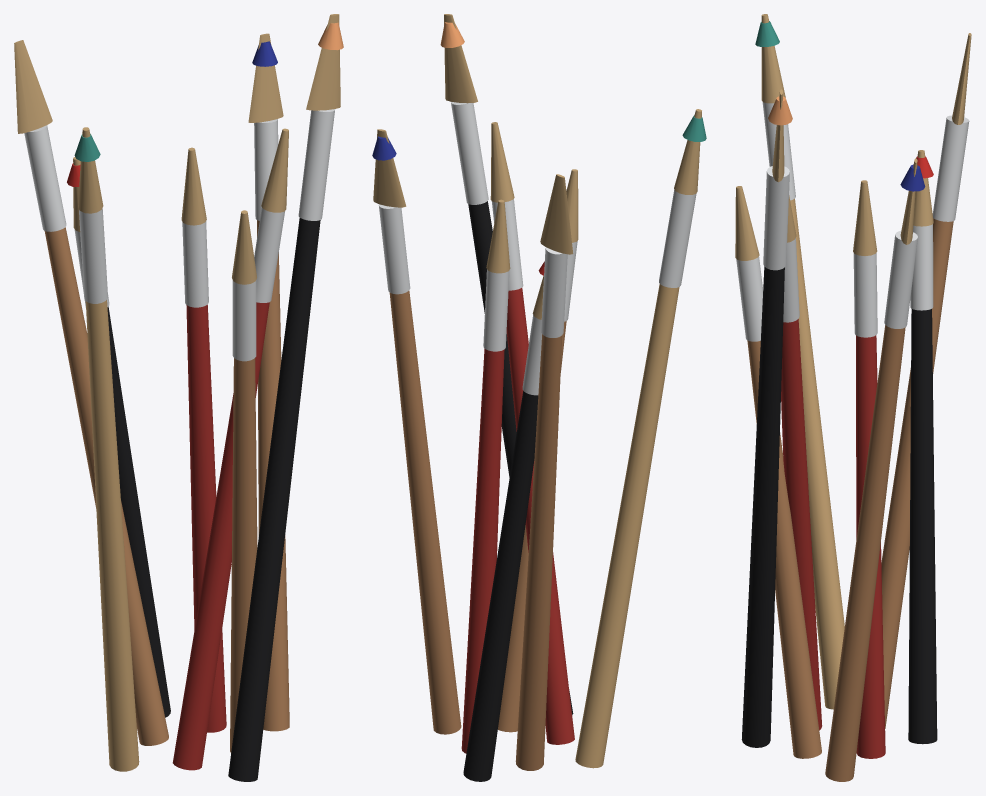
Rendered from herodesk-art-brushes.glb.
3 renders of one model, left to right at view 1: azimuth 30°, elevation 25°; view 2: azimuth 150°, elevation 25°; view 3: azimuth 270°, elevation 25°, orthographic. The views are drawn at different scales.
Visible parts, largest first — view 1: herodesk-art-brushes · mesh; view 2: herodesk-art-brushes · mesh; view 3: herodesk-art-brushes · mesh.
Boxes of the visible parts, x1,y1,x2,y2 form: herodesk-art-brushes · mesh: [14, 14, 343, 781]; herodesk-art-brushes · mesh: [372, 14, 706, 781]; herodesk-art-brushes · mesh: [735, 14, 971, 781].
Size of the model in its own units: 0.0966 by 0.241 by 0.0737.
